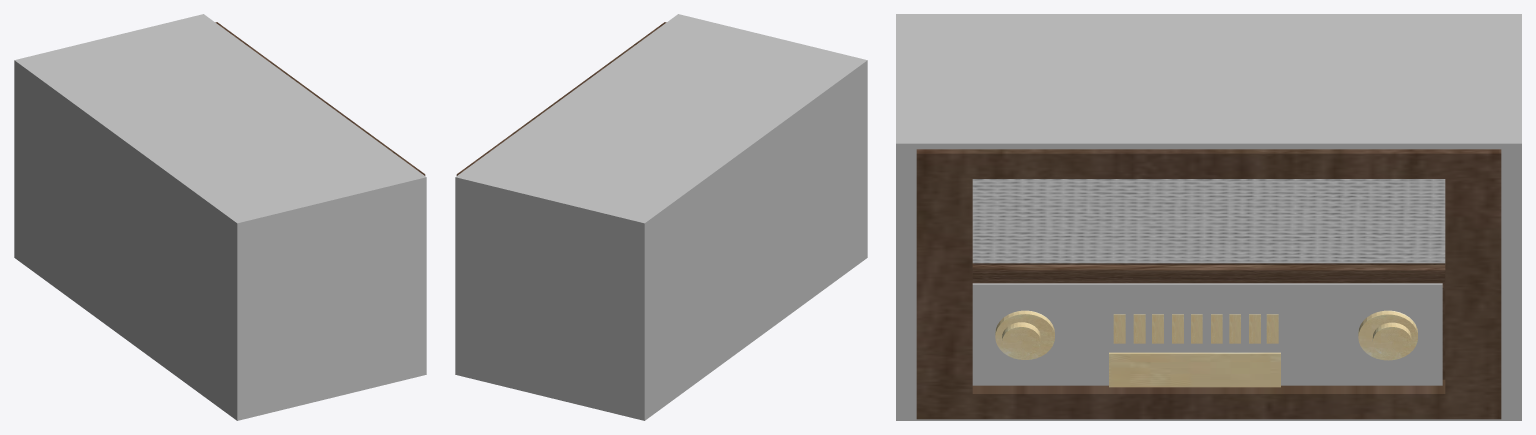
File: radio.fbx
The picture shows the model from 3 angles, left to right: view 1: azimuth 30°, elevation 25°; view 2: azimuth 150°, elevation 25°; view 3: azimuth 270°, elevation 25°; orthographic projection. The views are drawn at different scales.
Parts seen in each view (by area): view 1: Cube, Cube.003; view 2: Cube, Cube.003; view 3: Cube, Cube.003, Cube.013, Cube.014, Cube.001, Cube.002, Cylinder.003, Cylinder, Cylinder.001, Cylinder.002.
Part boxes in pixels (x1,y1,x2,y2): Cube: (14,14,426,420); Cube.003: (215,22,425,175); Cube: (455,14,867,420); Cube.003: (456,22,666,175); Cube: (896,14,1521,420); Cube.003: (916,149,1501,419); Cube.013: (972,179,1445,263); Cube.014: (972,283,1442,385); Cube.001: (972,263,1445,283); Cube.002: (1109,352,1280,387); Cylinder.003: (1358,310,1417,360); Cylinder: (995,310,1054,359); Cylinder.001: (1002,322,1040,356); Cylinder.002: (1372,322,1411,356).
Bounding box in the file's own units: 102 × 97.79 × 200.
